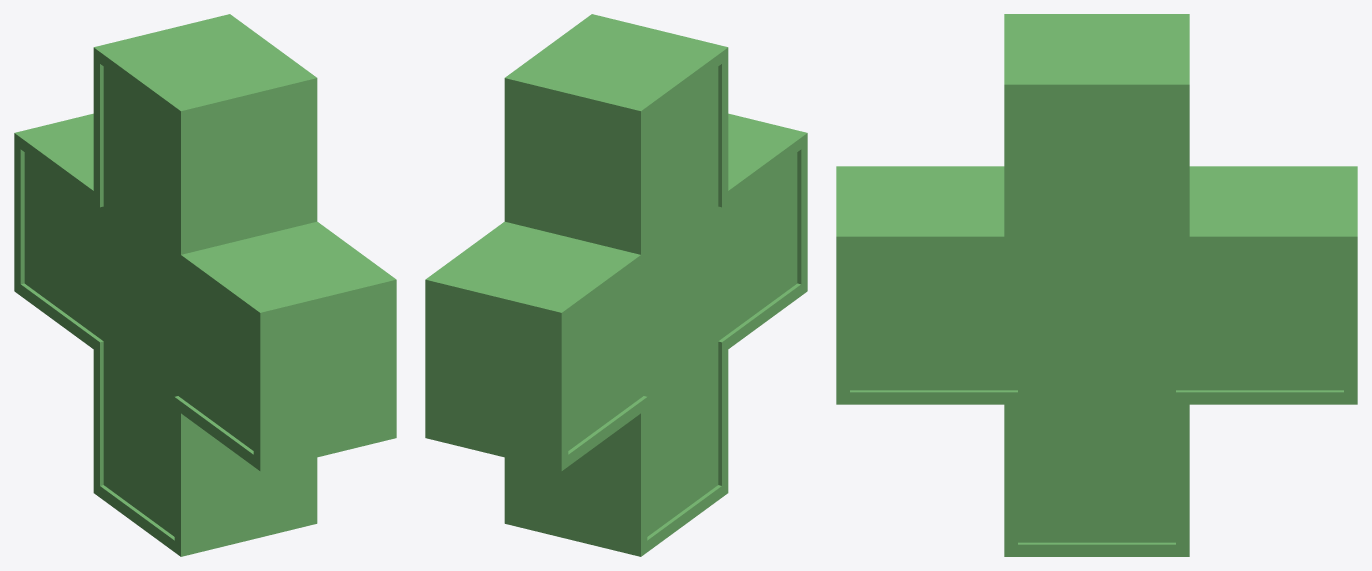
Rendered from pharma_cross.fbx.
3 views of the same model, side by side, from view 1: azimuth 30°, elevation 25°; view 2: azimuth 150°, elevation 25°; view 3: azimuth 270°, elevation 25° (orthographic). The views are drawn at different scales.
Parts seen in each view (by area): view 1: pCube18; view 2: pCube18; view 3: pCube18.
Part boxes in pixels (left/top/right/bottom): pCube18: left=14, top=14, right=396, bottom=556; pCube18: left=425, top=14, right=807, bottom=556; pCube18: left=836, top=14, right=1357, bottom=556.
Bounding box in the file's own units: 3.65 × 11.38 × 11.38.
